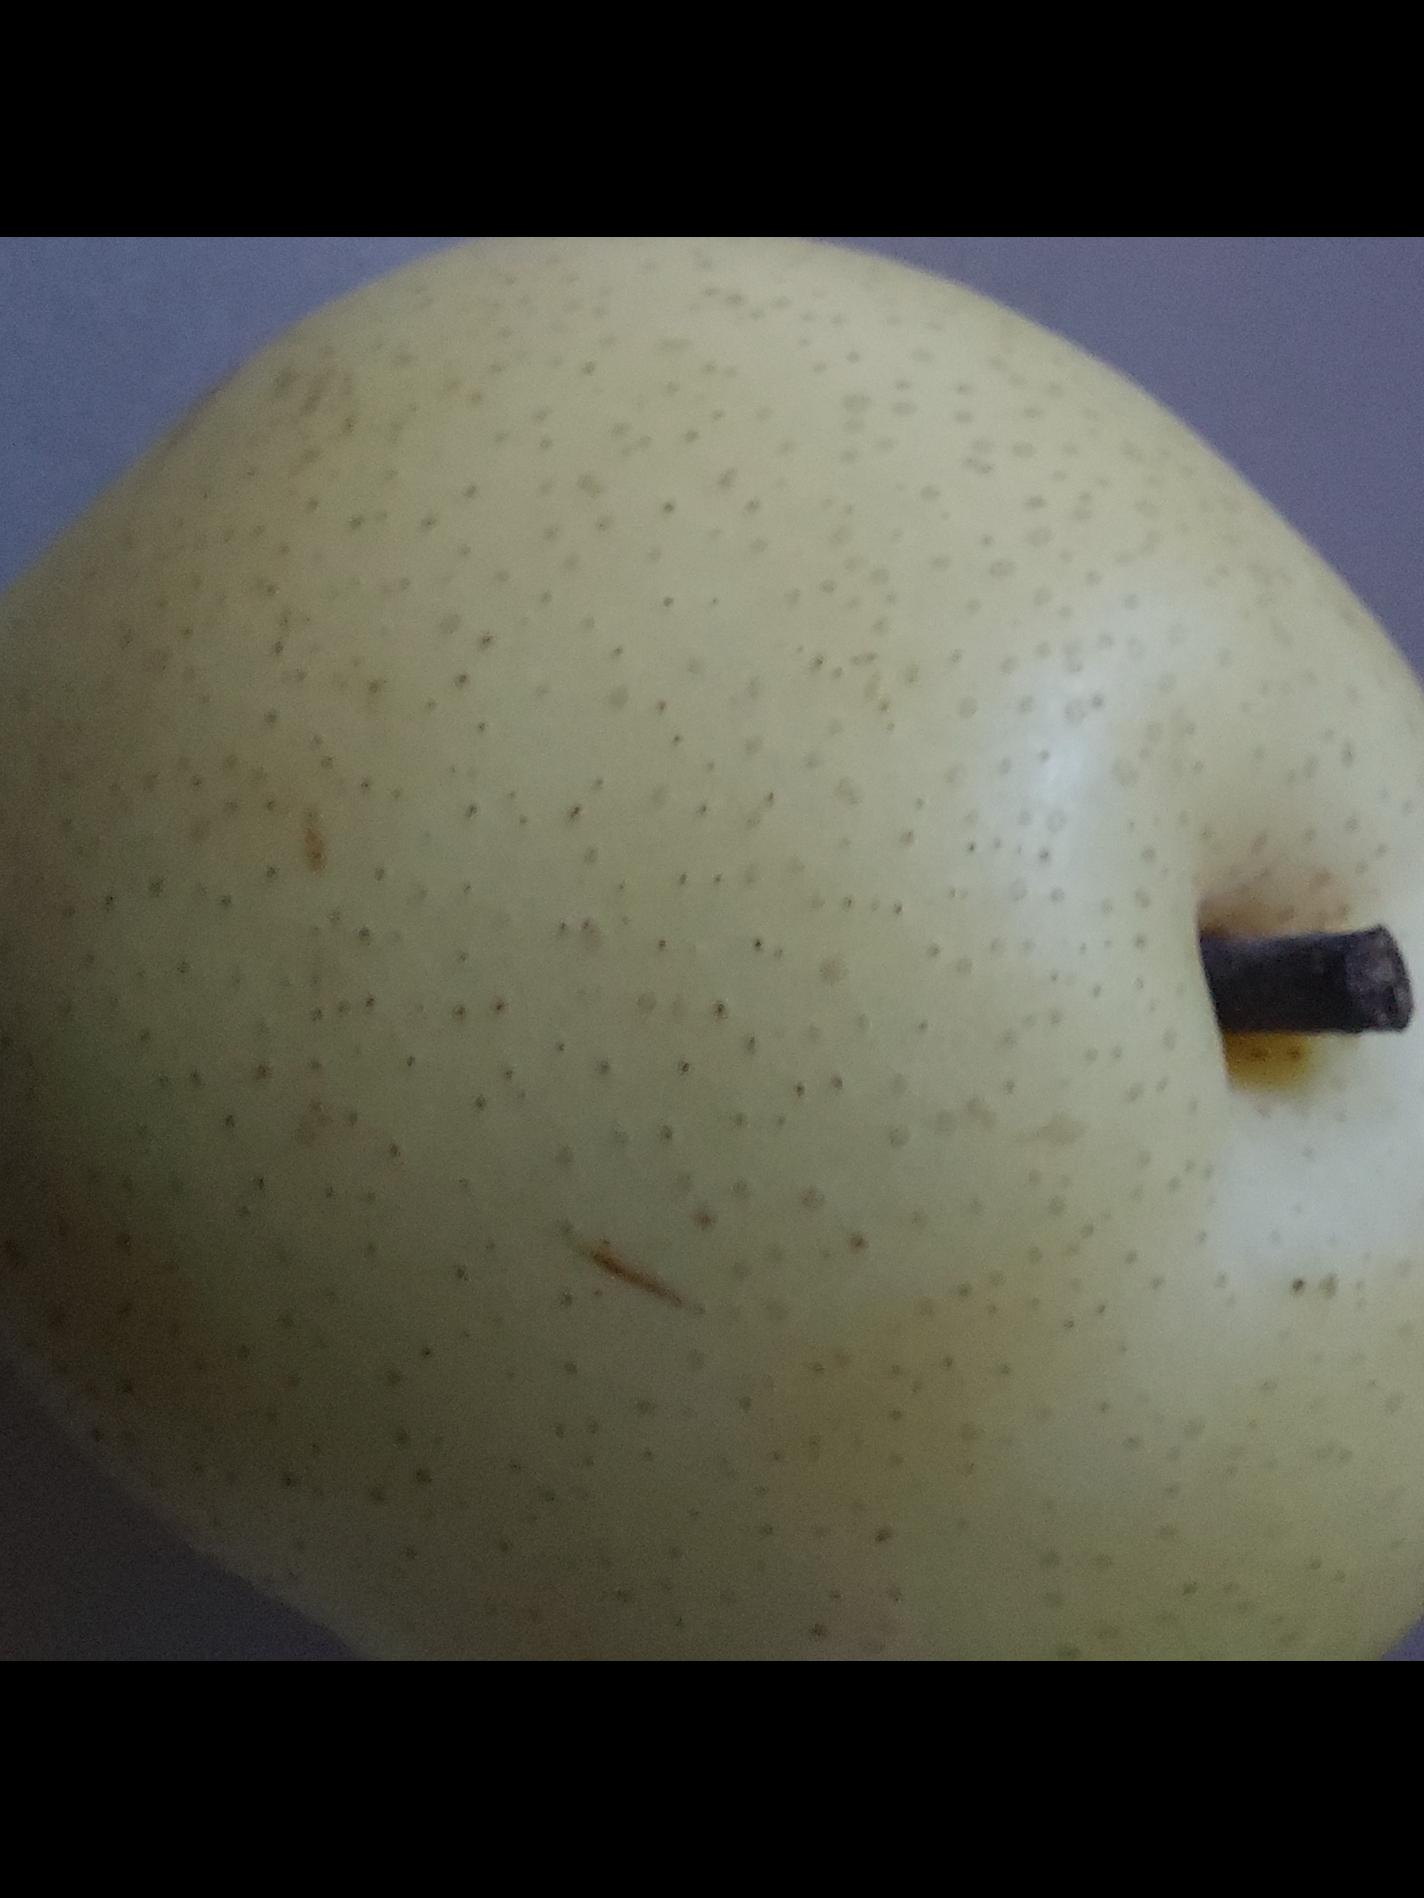Good Pear: (0, 236, 1424, 1647)
